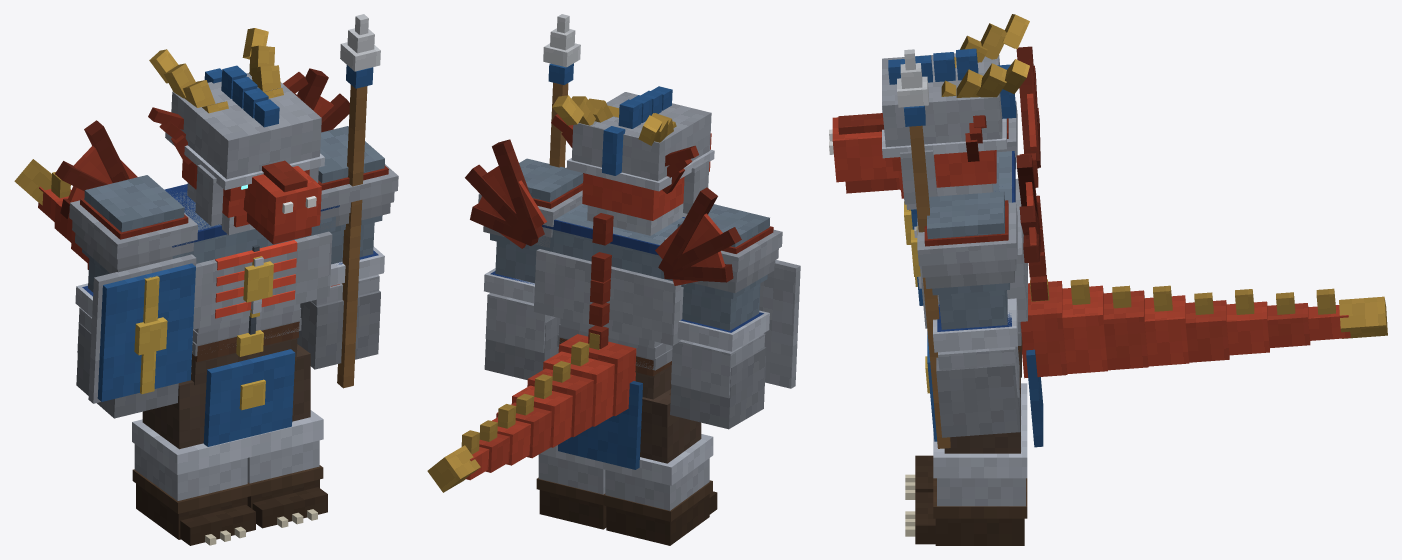
Rendered from dragonoid_garde.glb.
3 renders of one model, left to right at view 1: azimuth 30°, elevation 25°; view 2: azimuth 150°, elevation 25°; view 3: azimuth 270°, elevation 25°, orthographic. The views are drawn at different scales.
Parts seen in each view (by area): view 1: Torso, ArmR, Head, LegR, ArmL, LegL, HandL, Root; view 2: Torso, ArmR, Head, LegR, ArmL, LegL, HandL; view 3: Torso, ArmL, Head, LegL, HandL, LegR, ArmR.
Boxes of the visible parts, box(x1,y1,x2,y2) form: Torso: box(14, 68, 349, 446); ArmR: box(69, 175, 197, 418); Head: box(148, 28, 324, 244); LegR: box(132, 380, 255, 545); ArmL: box(297, 126, 398, 369); LegL: box(247, 344, 327, 528); HandL: box(337, 14, 380, 388); Root: box(205, 509, 317, 545); Torso: box(427, 139, 741, 492); ArmR: box(664, 204, 800, 429); Head: box(551, 86, 714, 235); LegR: box(603, 389, 717, 545); ArmL: box(478, 158, 583, 379); LegL: box(536, 445, 606, 529); HandL: box(543, 14, 580, 167); Torso: box(911, 46, 1387, 447); ArmL: box(917, 191, 1020, 437); Head: box(829, 14, 1029, 209); LegL: box(915, 377, 1027, 545); HandL: box(897, 49, 950, 448); LegR: box(915, 383, 1027, 492); ArmR: box(904, 100, 1017, 305).
Size of the model in its own units: 1.44 by 2.21 by 2.2.
Materials: 47 (47 with a texture image).
